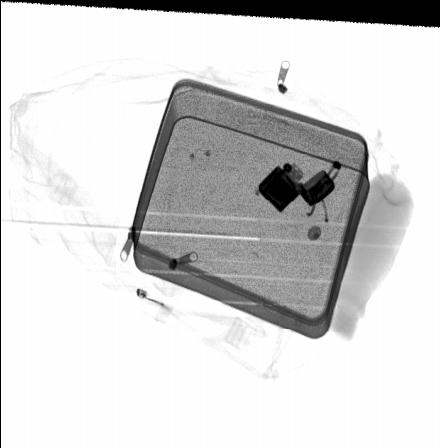Lighter: (256, 156, 335, 210)
